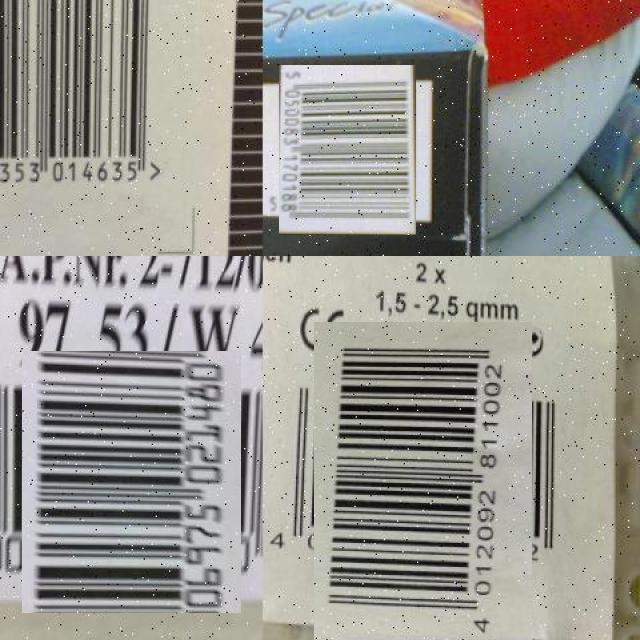Barcode: (288, 348, 557, 616), (11, 362, 252, 603), (0, 0, 199, 256), (271, 73, 425, 227)
